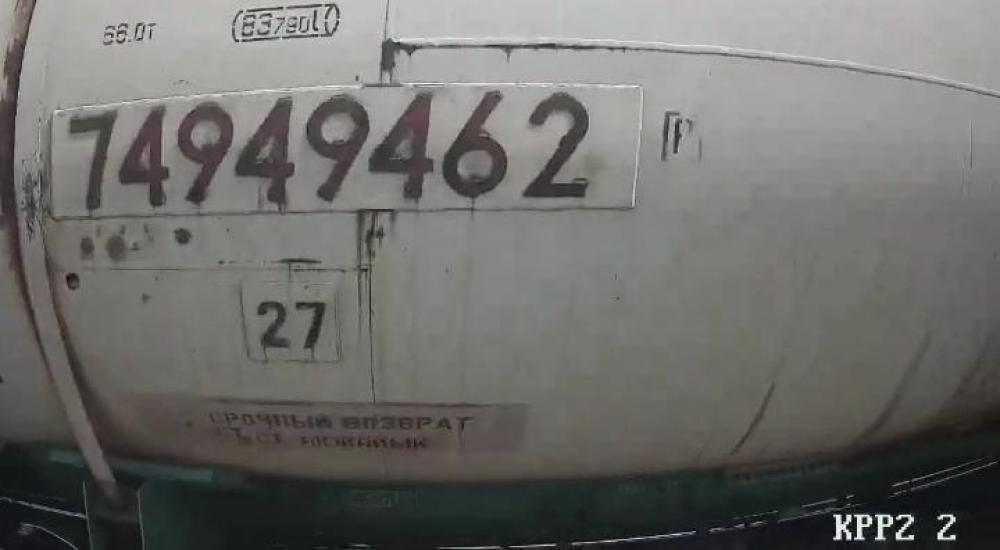Wagon-number: (64, 84, 596, 218)
